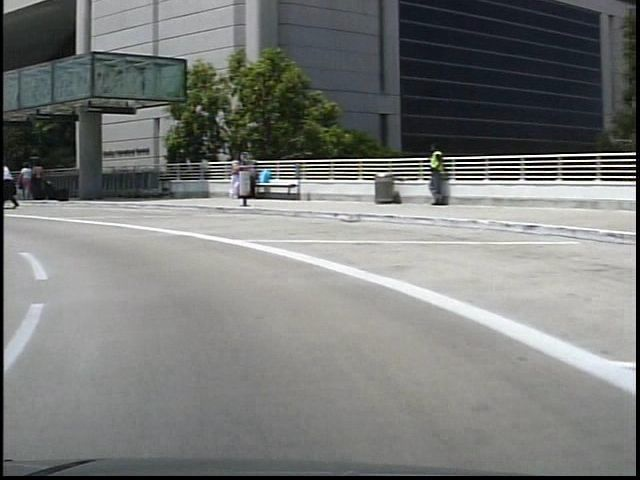person: (418, 148, 443, 217), (27, 162, 41, 204), (15, 158, 29, 198)
